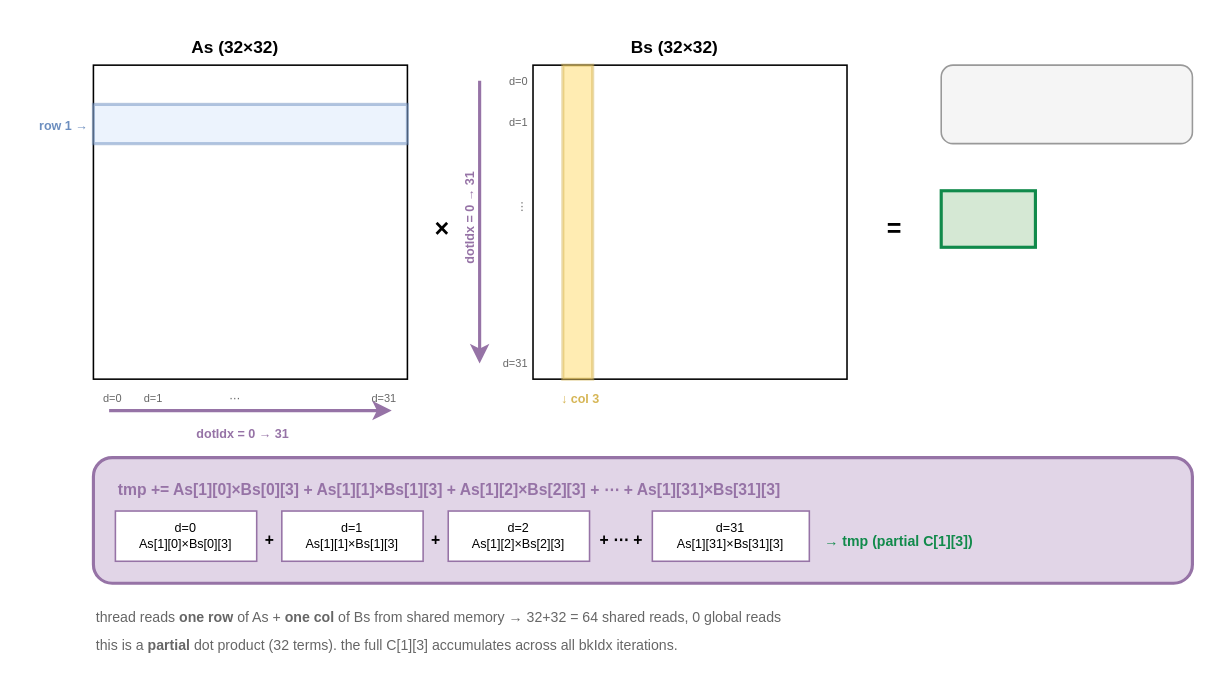
Some shapes in this 1220 by 681 pixel diagram are drawn without their labels. Each missing label, with the centre of its shape:
C[1][3]: the point at 987,218
Example: threadIdx.x = 35 threadRow = 35/32 = 1 threadCol = 35%32 = 3: the point at 1066,104
